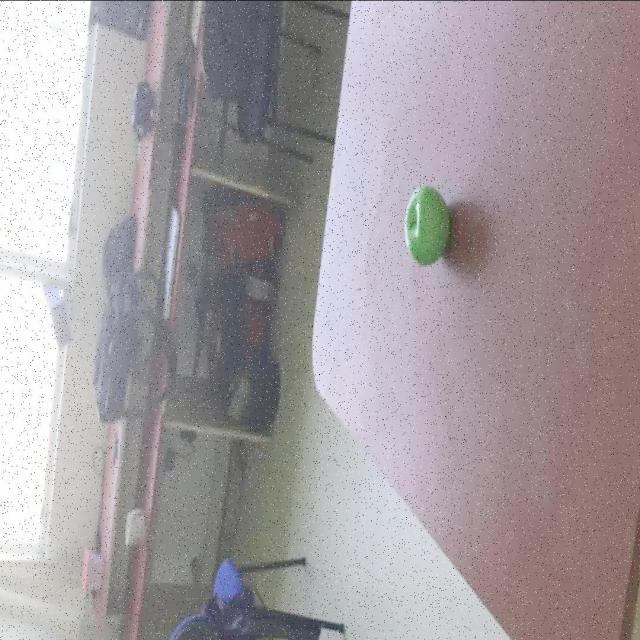Apple: (404, 186, 449, 267)
